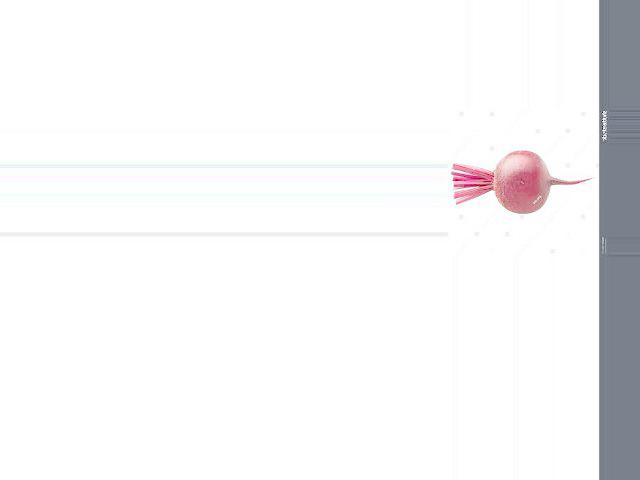beet: (452, 151, 595, 214)
